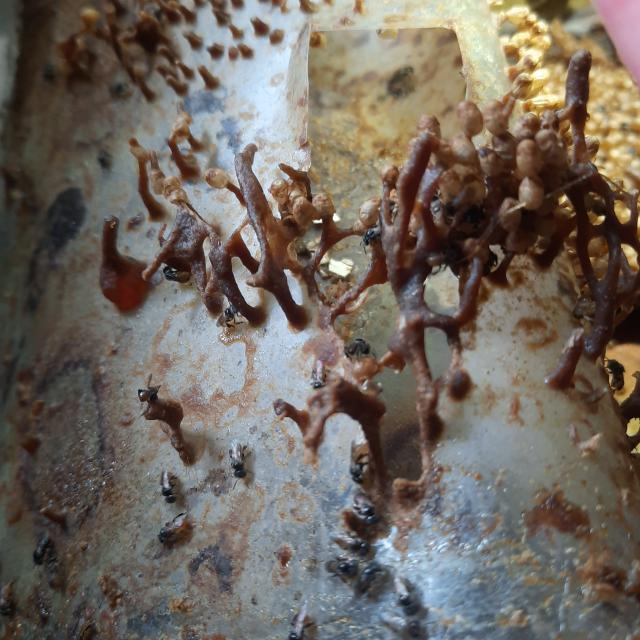honeybee: (326, 528, 370, 556), (83, 136, 114, 173), (384, 613, 424, 640), (227, 441, 251, 485), (157, 511, 191, 542), (353, 489, 380, 525), (285, 605, 312, 640), (356, 562, 384, 595), (329, 556, 362, 583), (217, 298, 244, 329), (352, 438, 368, 489), (133, 380, 162, 407), (34, 531, 54, 568), (161, 261, 193, 284), (394, 572, 417, 604), (159, 468, 178, 506), (342, 336, 371, 360), (36, 57, 59, 84), (362, 221, 388, 243), (0, 576, 13, 620), (313, 360, 329, 391), (108, 77, 130, 99)
